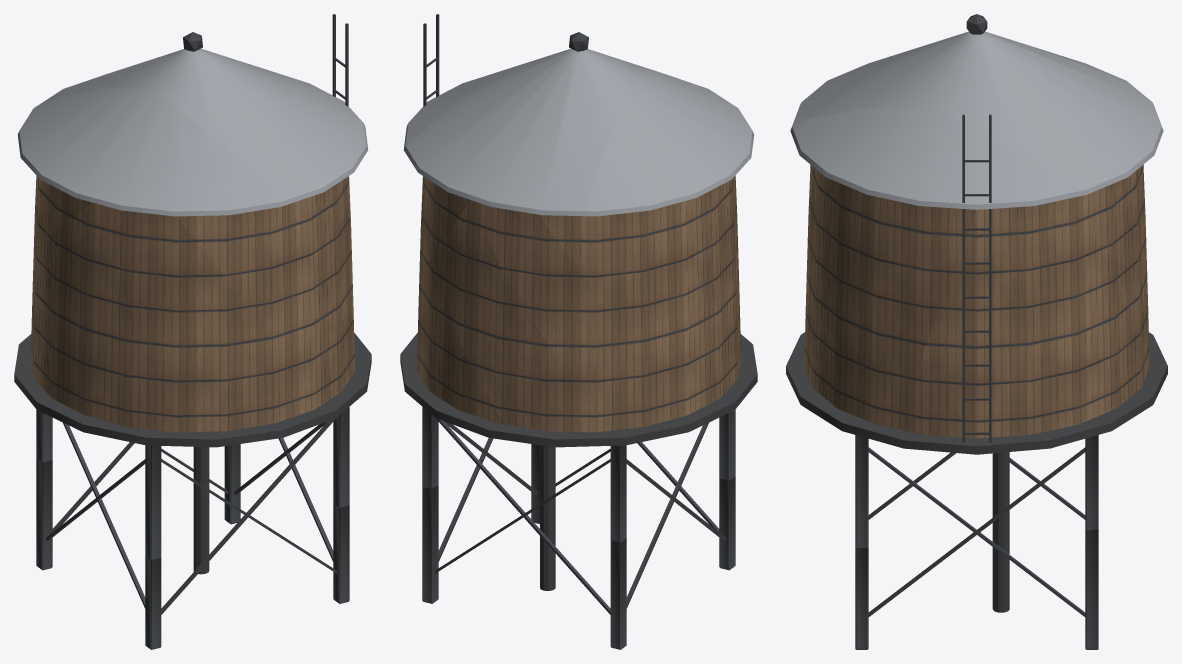
The model's file is water_tower_fractured.glb.
The picture shows the model from 3 angles, left to right: view 1: azimuth 30°, elevation 25°; view 2: azimuth 150°, elevation 25°; view 3: azimuth 270°, elevation 25°; orthographic projection. The views are drawn at different scales.
Parts seen in each view (by area): view 1: chunk_017, chunk_024, chunk_022, chunk_025, chunk_020, chunk_026, chunk_013, chunk_014, chunk_030, chunk_016, chunk_011, chunk_006 (+10 smaller); view 2: chunk_025, chunk_017, chunk_019, chunk_024, chunk_016, chunk_018, chunk_021, chunk_013, chunk_023, chunk_030, chunk_009, chunk_001 (+12 smaller); view 3: chunk_025, chunk_023, chunk_022, chunk_026, chunk_021, chunk_020, chunk_014, chunk_019, chunk_030, chunk_012, chunk_024, chunk_001 (+7 smaller).
Part boxes in pixels (x1,y1,x2,y2): chunk_017: (30,202,272,432); chunk_024: (17,87,276,216); chunk_022: (177,176,353,336); chunk_025: (42,48,280,194); chunk_020: (208,311,355,431); chunk_026: (272,72,368,207); chunk_013: (14,334,230,447); chunk_014: (227,333,371,445); chunk_030: (193,446,209,574); chunk_016: (33,175,91,248); chunk_011: (161,418,336,614); chunk_006: (145,445,161,559); chunk_025: (404,48,657,215); chunk_017: (600,175,741,431); chunk_019: (433,201,601,432); chunk_024: (582,69,754,216); chunk_016: (540,181,728,325); chunk_018: (471,200,621,401); chunk_021: (416,259,505,424); chunk_013: (445,334,757,447); chunk_023: (419,176,471,262); chunk_030: (540,445,555,590); chunk_009: (435,418,610,614); chunk_001: (422,485,438,603); chunk_025: (803,31,1163,194); chunk_023: (919,171,1135,370); chunk_022: (807,164,976,364); chunk_026: (790,107,1086,209); chunk_021: (939,267,1149,438); chunk_020: (804,271,966,437); chunk_014: (786,341,1155,454); chunk_019: (1114,169,1149,353); chunk_030: (992,452,1009,612); chunk_012: (868,447,1085,616); chunk_024: (793,41,1132,124); chunk_001: (1085,529,1098,649).
Bounding box in the file's own units: 6.3 × 10.65 × 6.3.
Materials: 5 (1 with a texture image).
